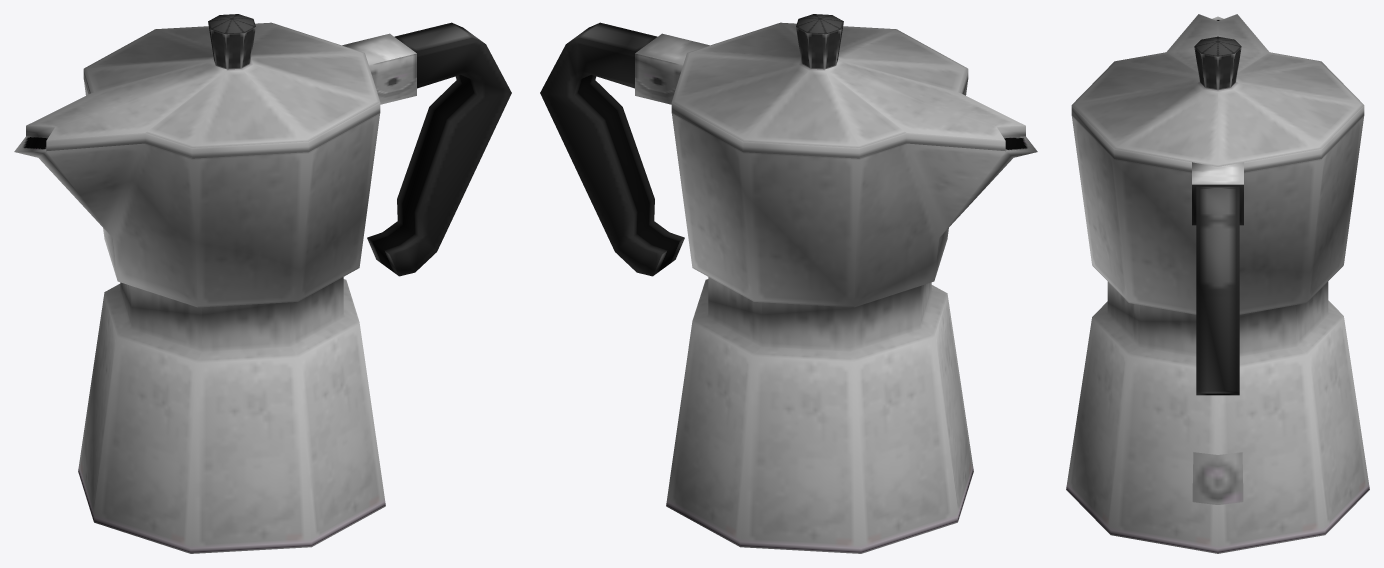
Rendered from int_oth_espresso.dae.
3 renders of one model, left to right at view 1: azimuth 30°, elevation 25°; view 2: azimuth 150°, elevation 25°; view 3: azimuth 270°, elevation 25°, orthographic. The views are drawn at different scales.
Parts seen in each view (by area): view 1: int_oth_espresso; view 2: int_oth_espresso; view 3: int_oth_espresso.
Boxes of the visible parts, x1,y1,x2,y2 form: int_oth_espresso: (14, 14, 511, 553); int_oth_espresso: (540, 14, 1037, 553); int_oth_espresso: (1066, 14, 1369, 553).
Bounding box in the file's own units: 14.64 × 13.53 × 8.31.
Materials: 1 (1 with a texture image).
